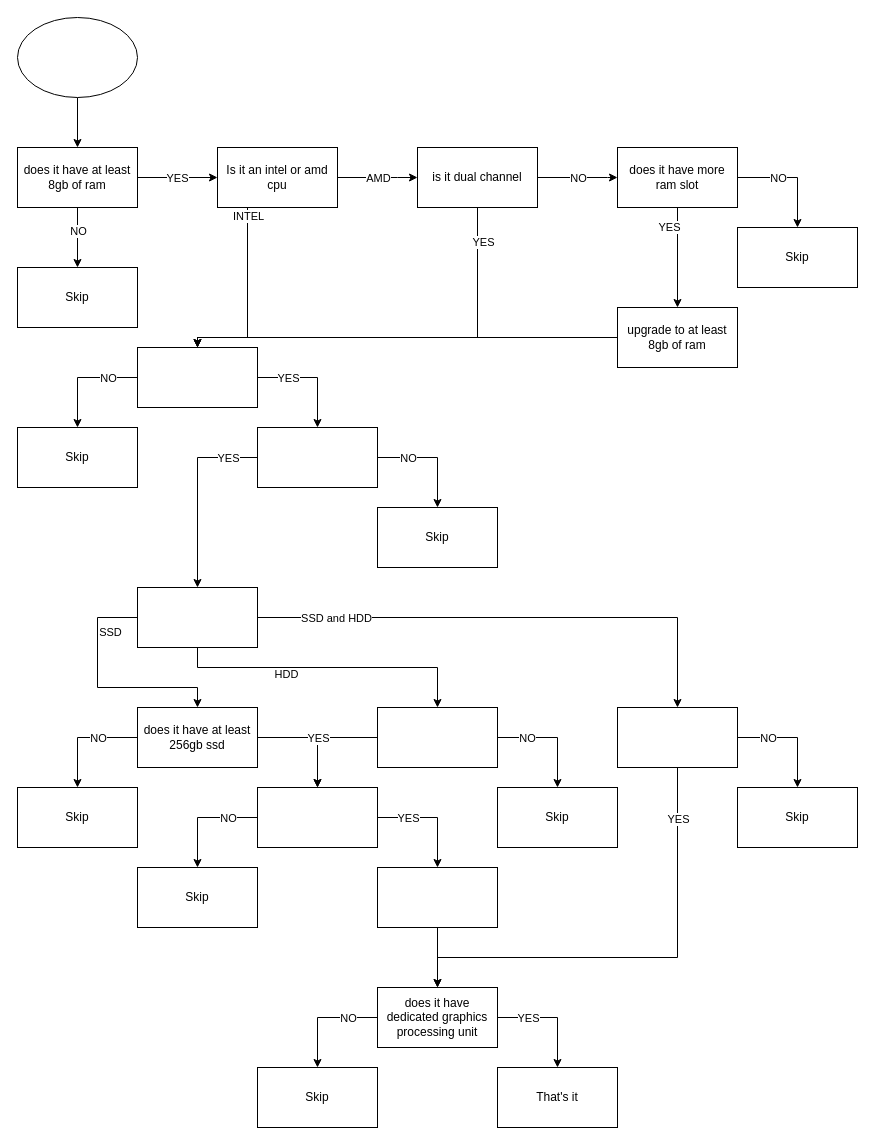
Image size: 875x1145. Some labels were removed from this diagram. Each missing label, with the centre of its shape:
does it have at least 1tb hdd: (437,737)
does it have at least 1tb hdd and 256gb ssd: (677,737)
does the cpu have at least 4 cores: (197,377)
I'm worrying about choosing a new laptop: (77,57)
is it multi-threaded: (317,457)
is there upgrade slot for ssd/hdd: (317,817)
upgrade with at least 256gb ssd/ 1tb hdd: (437,897)
what storage does it have: (197,617)
